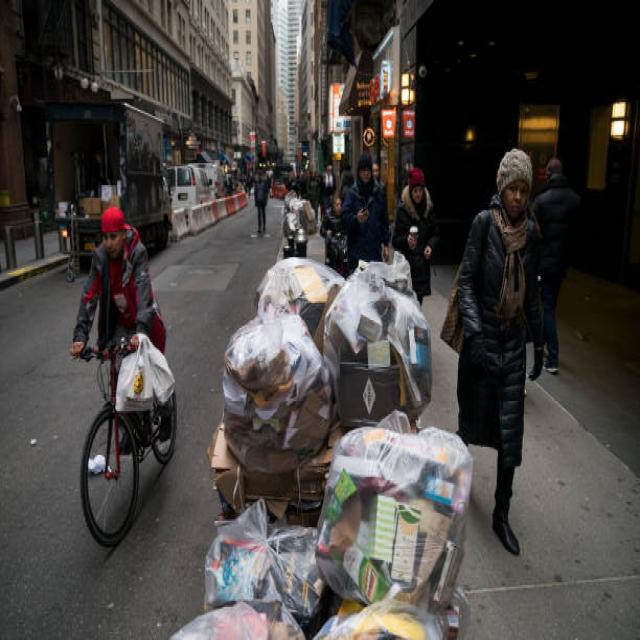trash: (229, 249, 466, 616)
